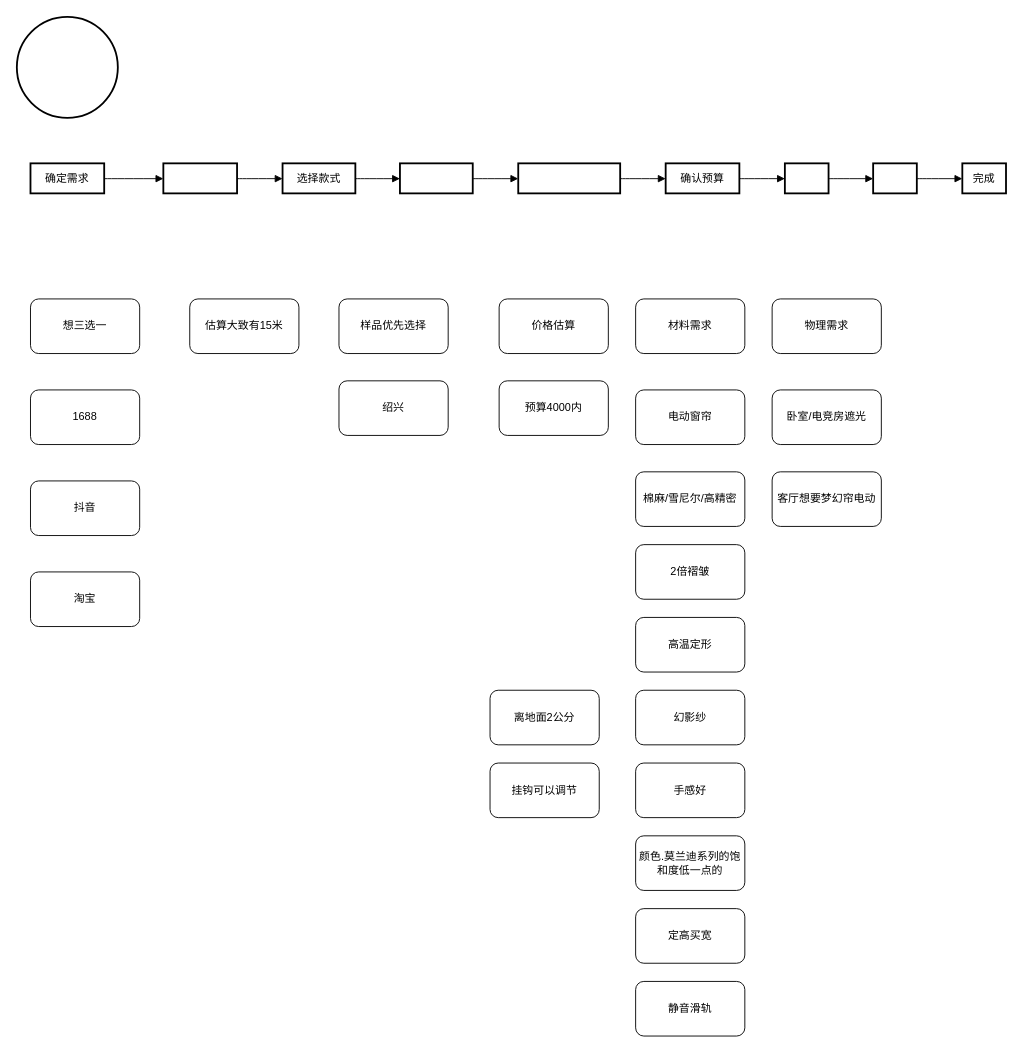
This 1022x1052 diagram has some shape labels left out. The centre of each missing label's shape, as x and y in pixels:
安装: pixel 894 178
测量尺寸: pixel 436 178
窗帘如何选购: pixel 66 66
购买: pixel 806 178
选择安装方式: pixel 569 178
选择布料: pixel 200 178
